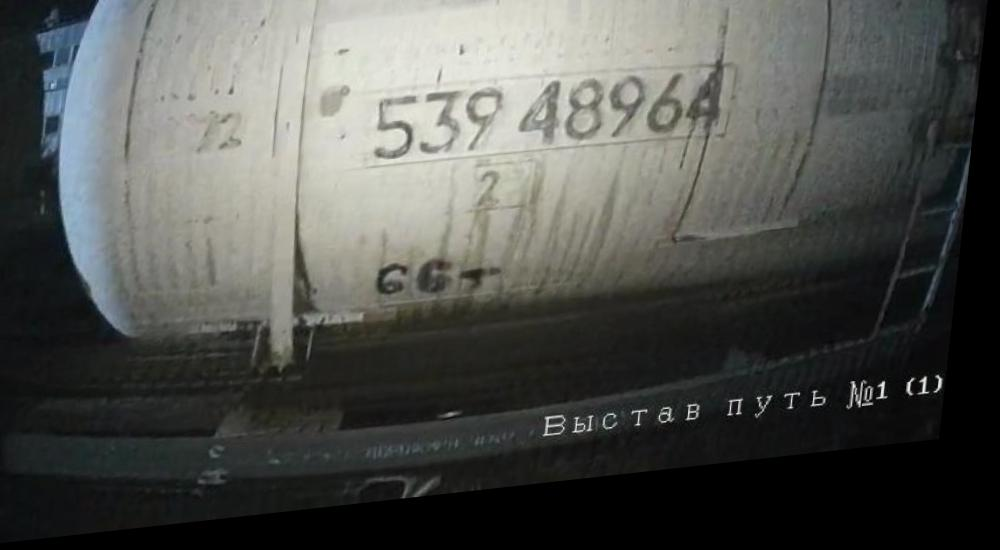Wagon-number: (371, 73, 735, 185)
